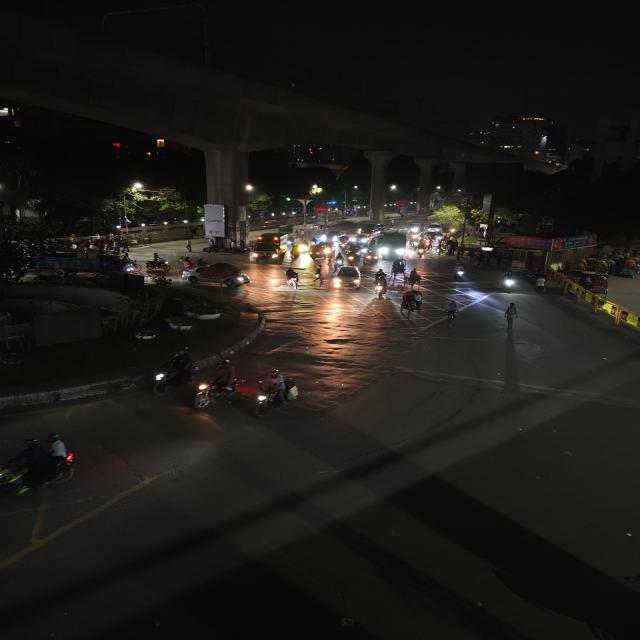bicycle: (441, 300, 463, 330)
bus: (374, 232, 411, 262)
car: (183, 274, 251, 288), (331, 264, 364, 291)
cng: (308, 244, 326, 261), (364, 248, 379, 264), (337, 235, 351, 251)
motorcycle: (0, 433, 81, 498), (246, 366, 302, 416), (191, 359, 242, 411), (150, 347, 193, 394), (498, 269, 521, 293), (370, 278, 394, 300), (282, 266, 303, 289), (144, 254, 168, 273), (452, 263, 469, 283), (415, 242, 428, 258)
pedestrian: (501, 301, 522, 331), (532, 275, 548, 295), (312, 264, 326, 286), (288, 243, 302, 261), (332, 254, 346, 270), (185, 239, 195, 255), (122, 239, 132, 253), (208, 241, 218, 254), (230, 241, 237, 254)
rickshaw: (399, 288, 426, 318), (388, 257, 412, 283), (402, 270, 426, 290), (127, 233, 147, 248)
truck: (252, 234, 289, 264)
